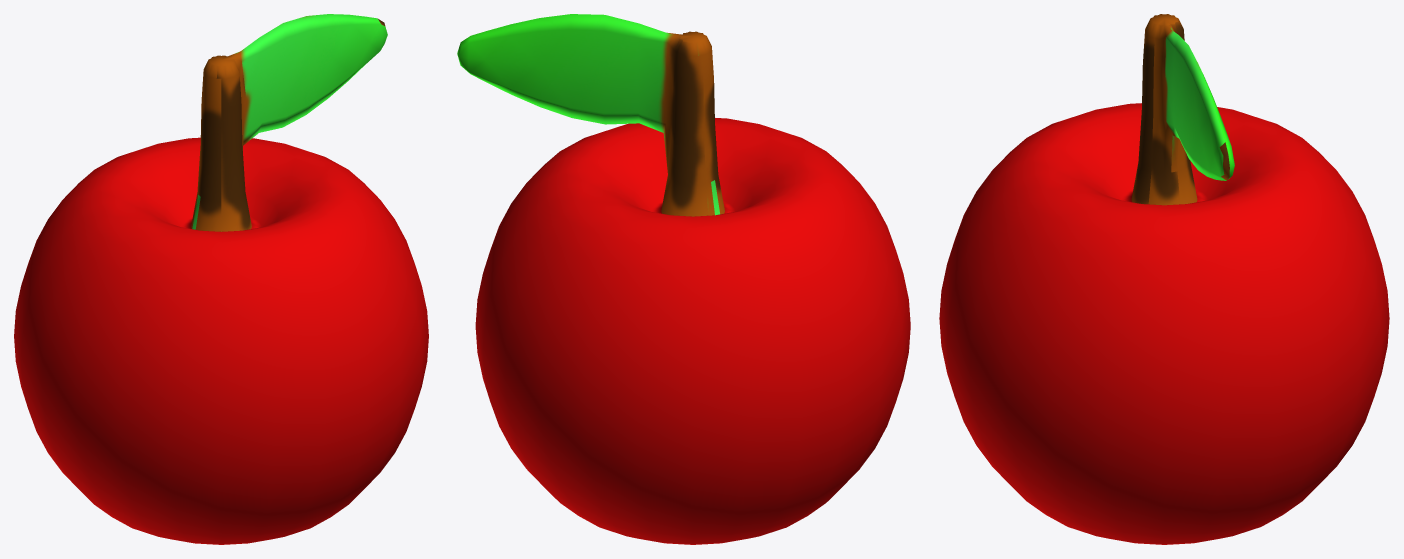
Rendered from apple.fbx.
3 renders of one model, left to right at view 1: azimuth 30°, elevation 25°; view 2: azimuth 150°, elevation 25°; view 3: azimuth 270°, elevation 25°, orthographic. The views are drawn at different scales.
Visible parts, largest first — view 1: pSphere1; view 2: pSphere1; view 3: pSphere1.
Boxes of the visible parts, left/top/right/bottom form: pSphere1: left=14, top=14, right=428, bottom=544; pSphere1: left=457, top=14, right=910, bottom=544; pSphere1: left=939, top=14, right=1389, bottom=544.
Bounding box in the file's own units: 10.85 × 12.55 × 10.41.
Materials: 2 (1 with a texture image).
